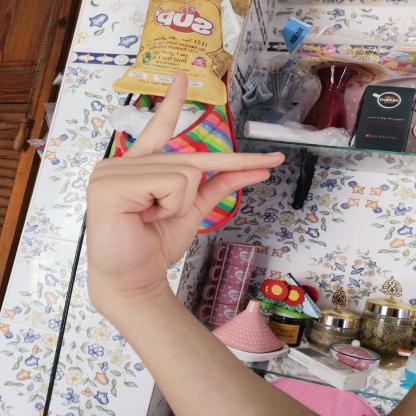TAA: (73, 64, 297, 302)
